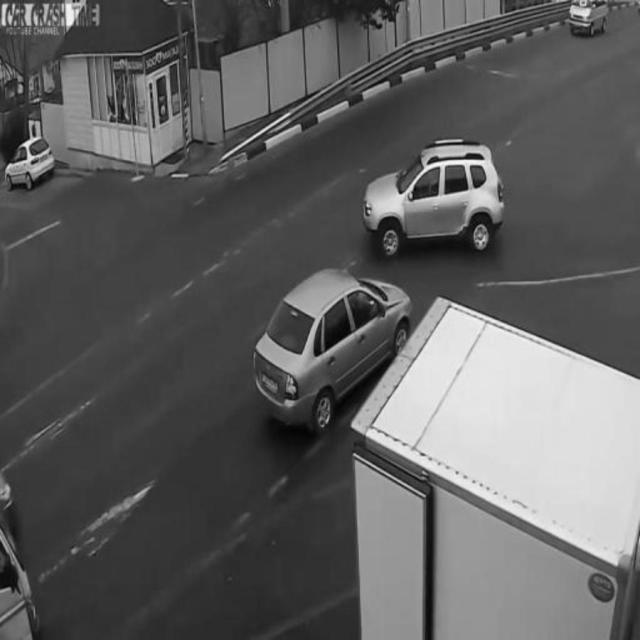vehicle: (250, 266, 408, 436), (366, 141, 507, 257), (3, 132, 58, 189), (568, 1, 612, 46)
